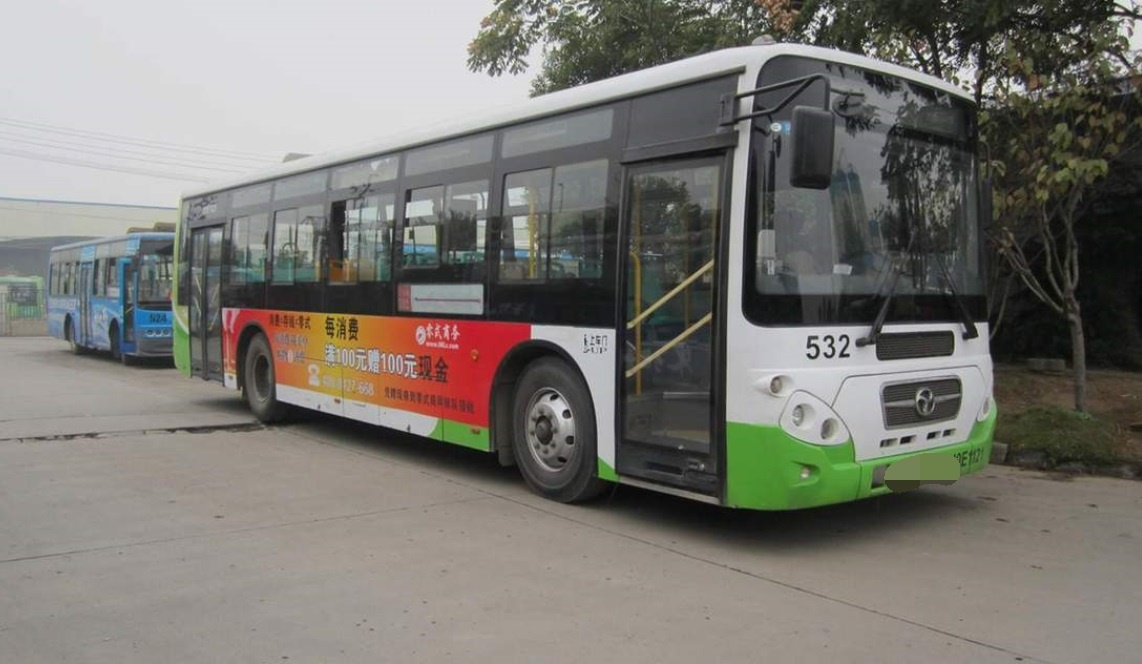bus: (173, 39, 1000, 535), (32, 212, 198, 376)
